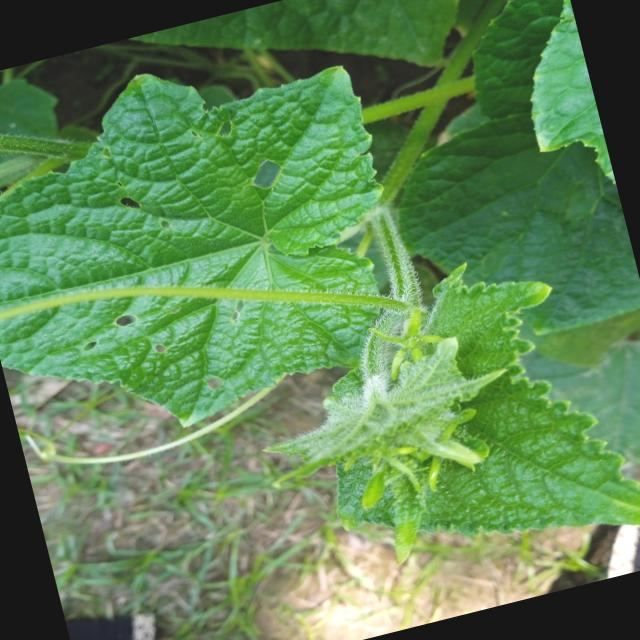cucumber_healthy: (0, 16, 433, 470), (278, 216, 640, 636), (126, 0, 496, 141), (500, 0, 618, 209)
